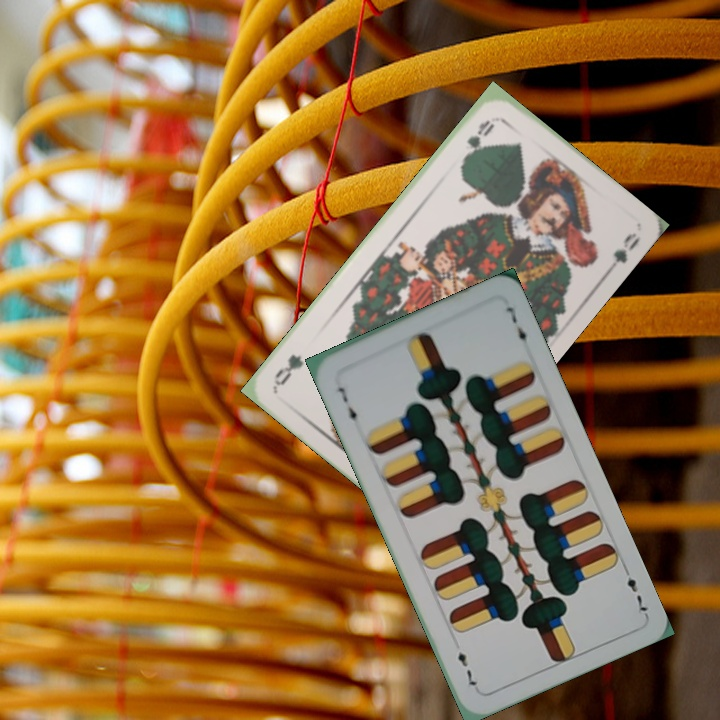E7: (619, 562, 651, 618), (332, 382, 360, 429)
GO: (458, 115, 497, 165)
